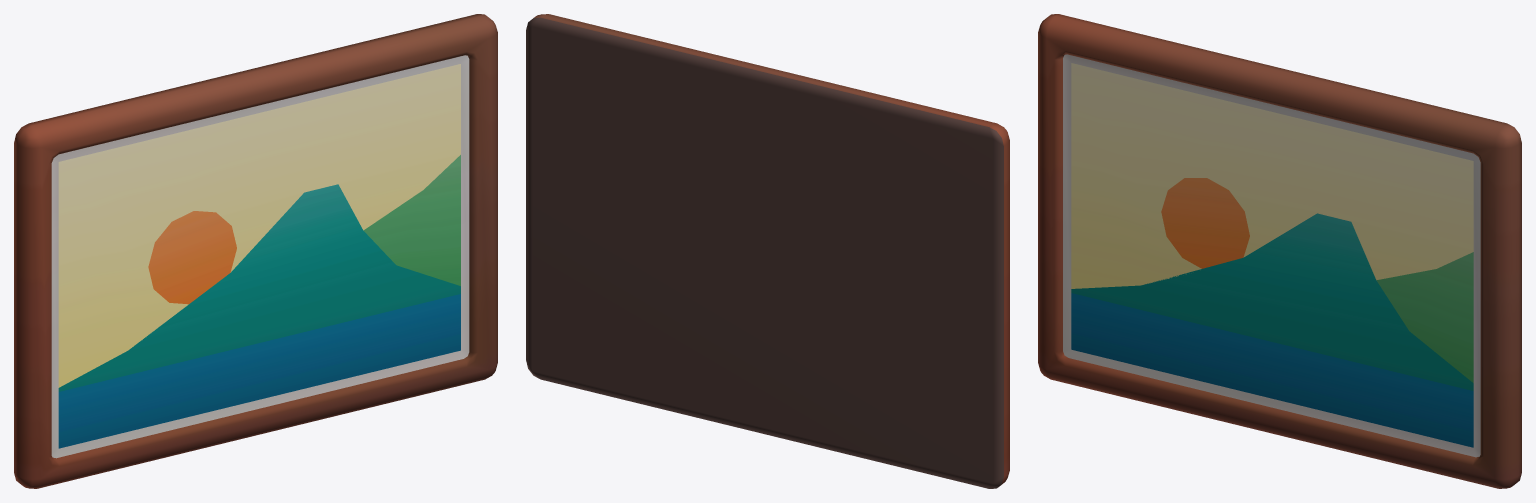
Rendered from Picture_11.glb.
3 views of the same model, side by side, from view 1: azimuth 30°, elevation 25°; view 2: azimuth 150°, elevation 25°; view 3: azimuth 330°, elevation 25° (orthographic).
Visible parts, largest first — view 1: Picture_11; view 2: Picture_11; view 3: Picture_11.
Part boxes in pixels (box(x1,y1,x2,y2)): Picture_11: box(14, 14, 497, 488); Picture_11: box(526, 14, 1009, 488); Picture_11: box(1038, 14, 1521, 488).
Size of the model in its own units: 1.12 by 0.8087 by 0.0585.
1 material, 1 textured.
